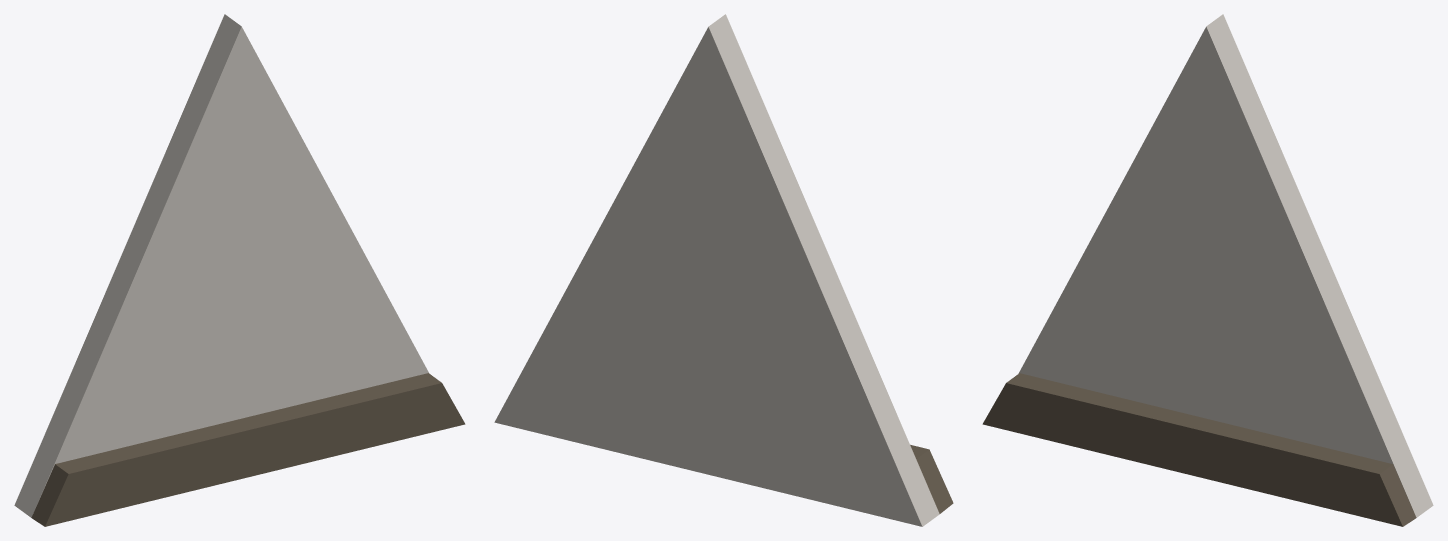
The model's file is _ROOF_BIG_TRIANGLE_03_1.fbx.
3 views of the same model, side by side, from view 1: azimuth 30°, elevation 25°; view 2: azimuth 150°, elevation 25°; view 3: azimuth 330°, elevation 25° (orthographic).
Visible parts, largest first — view 1: ROOF_BIG_TRIANGLE_03_1; view 2: ROOF_BIG_TRIANGLE_03_1; view 3: ROOF_BIG_TRIANGLE_03_1.
Part boxes in pixels (x1,y1,x2,y2): ROOF_BIG_TRIANGLE_03_1: [14, 14, 465, 526]; ROOF_BIG_TRIANGLE_03_1: [494, 14, 953, 526]; ROOF_BIG_TRIANGLE_03_1: [982, 14, 1433, 526].
Size of the model in its own units: 100 by 100 by 12.59.
